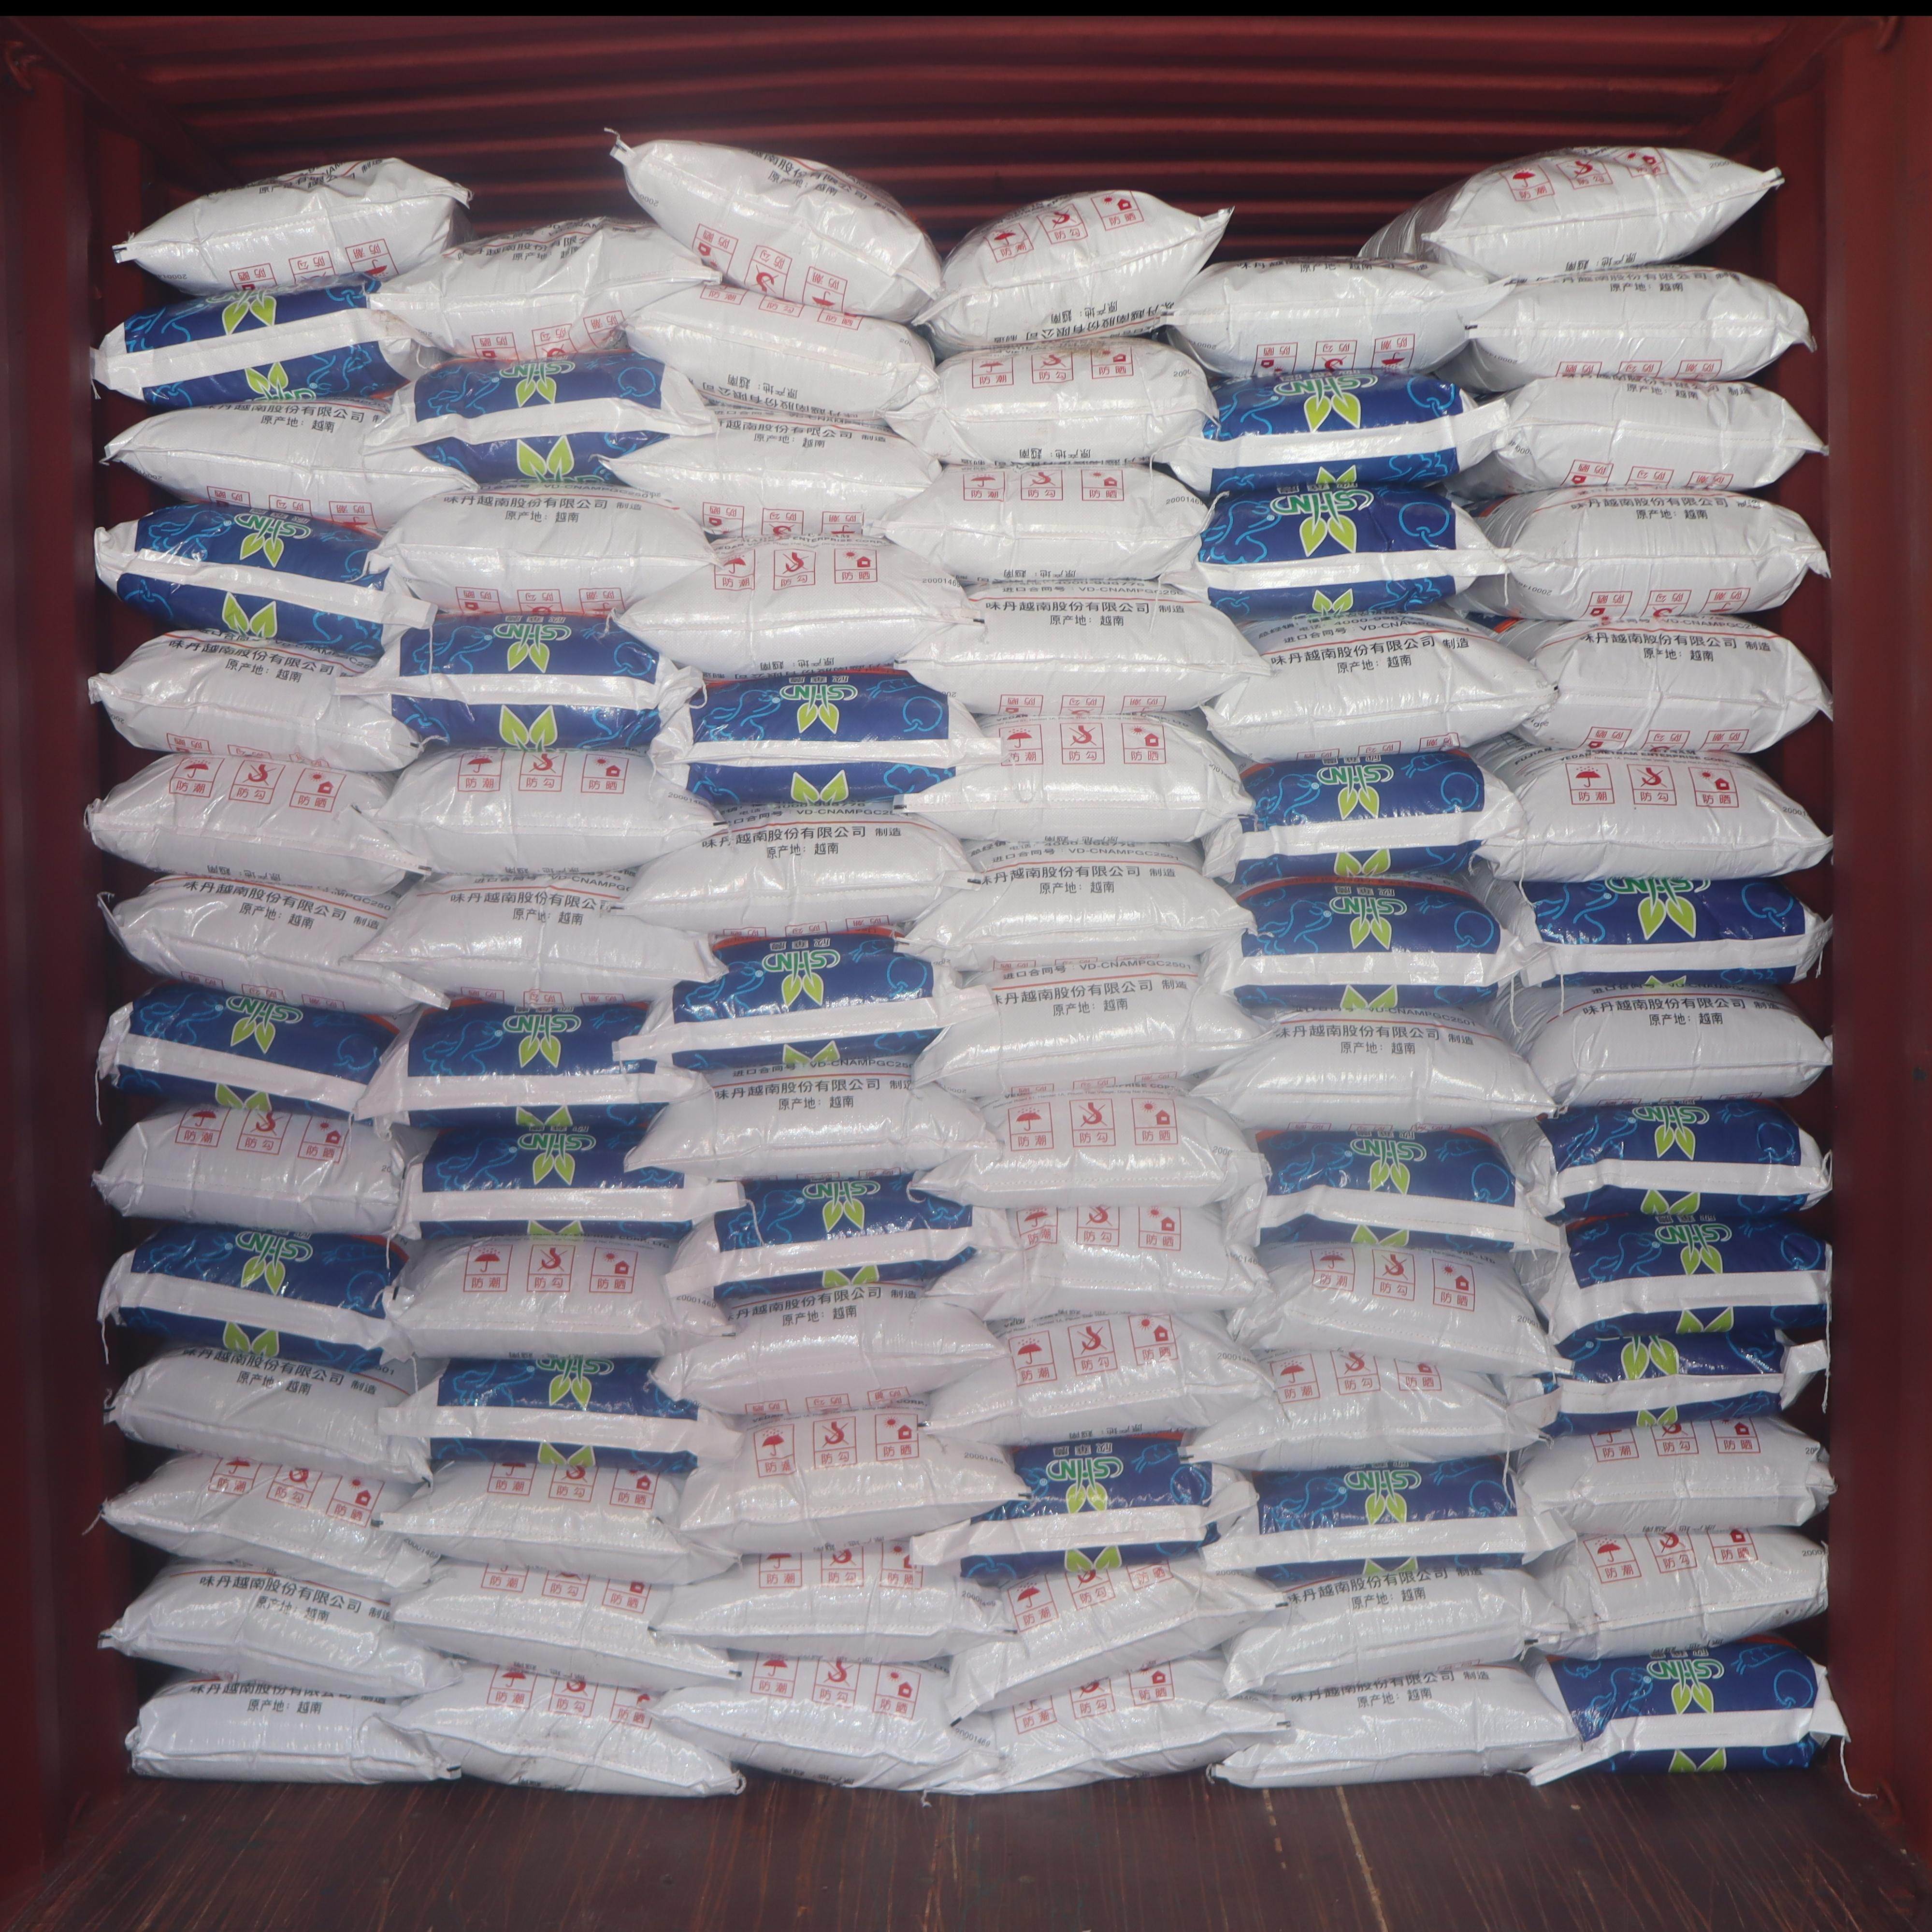sack: (612, 140, 941, 322), (1361, 145, 1782, 278), (612, 929, 991, 1072), (1205, 607, 1553, 761), (948, 1557, 1277, 1720), (96, 504, 433, 658), (916, 189, 1231, 354), (911, 1435, 1254, 1585), (1474, 736, 1829, 881), (370, 216, 720, 361), (104, 398, 472, 536), (683, 1405, 1024, 1553), (619, 536, 975, 678), (902, 579, 1267, 717), (651, 669, 1001, 810), (1467, 487, 1829, 623), (104, 874, 448, 1017), (115, 157, 469, 295), (354, 872, 717, 1007), (1203, 874, 1543, 1017), (99, 1562, 458, 1697), (913, 957, 1258, 1097), (656, 1281, 1003, 1419), (87, 754, 425, 895), (92, 274, 446, 409), (1205, 1456, 1562, 1589), (656, 1652, 1000, 1790), (352, 1001, 704, 1136), (372, 479, 713, 617), (393, 1663, 743, 1798), (1529, 1638, 1847, 1785), (938, 1660, 1281, 1796), (619, 803, 971, 936), (1440, 265, 1813, 389), (1231, 1244, 1569, 1380), (88, 632, 418, 771), (393, 1559, 738, 1691), (370, 350, 715, 483), (1205, 750, 1523, 893), (906, 839, 1253, 970), (931, 1313, 1270, 1445), (103, 1454, 433, 1591), (1506, 617, 1831, 755), (648, 1539, 1010, 1663), (1212, 1663, 1575, 1787), (1166, 487, 1504, 619), (379, 1460, 734, 1585), (1223, 1568, 1571, 1695), (373, 614, 699, 750), (908, 713, 1251, 842), (612, 409, 939, 543), (1184, 1348, 1541, 1470), (99, 1224, 405, 1366), (1159, 373, 1507, 497), (110, 1346, 430, 1481), (1523, 1215, 1831, 1355), (669, 1173, 1016, 1297), (1194, 1010, 1555, 1129), (1463, 377, 1824, 495), (625, 1063, 991, 1180), (920, 1085, 1263, 1208), (377, 748, 715, 874), (382, 1355, 738, 1474), (885, 336, 1215, 464), (386, 1235, 725, 1359), (1493, 982, 1831, 1106), (626, 287, 936, 421), (1230, 1127, 1560, 1253), (1169, 257, 1506, 379), (96, 1104, 403, 1235), (97, 984, 396, 1118), (1481, 874, 1829, 989), (1497, 1100, 1829, 1221), (932, 1207, 1267, 1323), (879, 464, 1208, 582), (1530, 1529, 1826, 1660), (395, 1129, 741, 1237), (1518, 1417, 1835, 1534), (126, 1677, 458, 1783), (1502, 1336, 1828, 1437)
